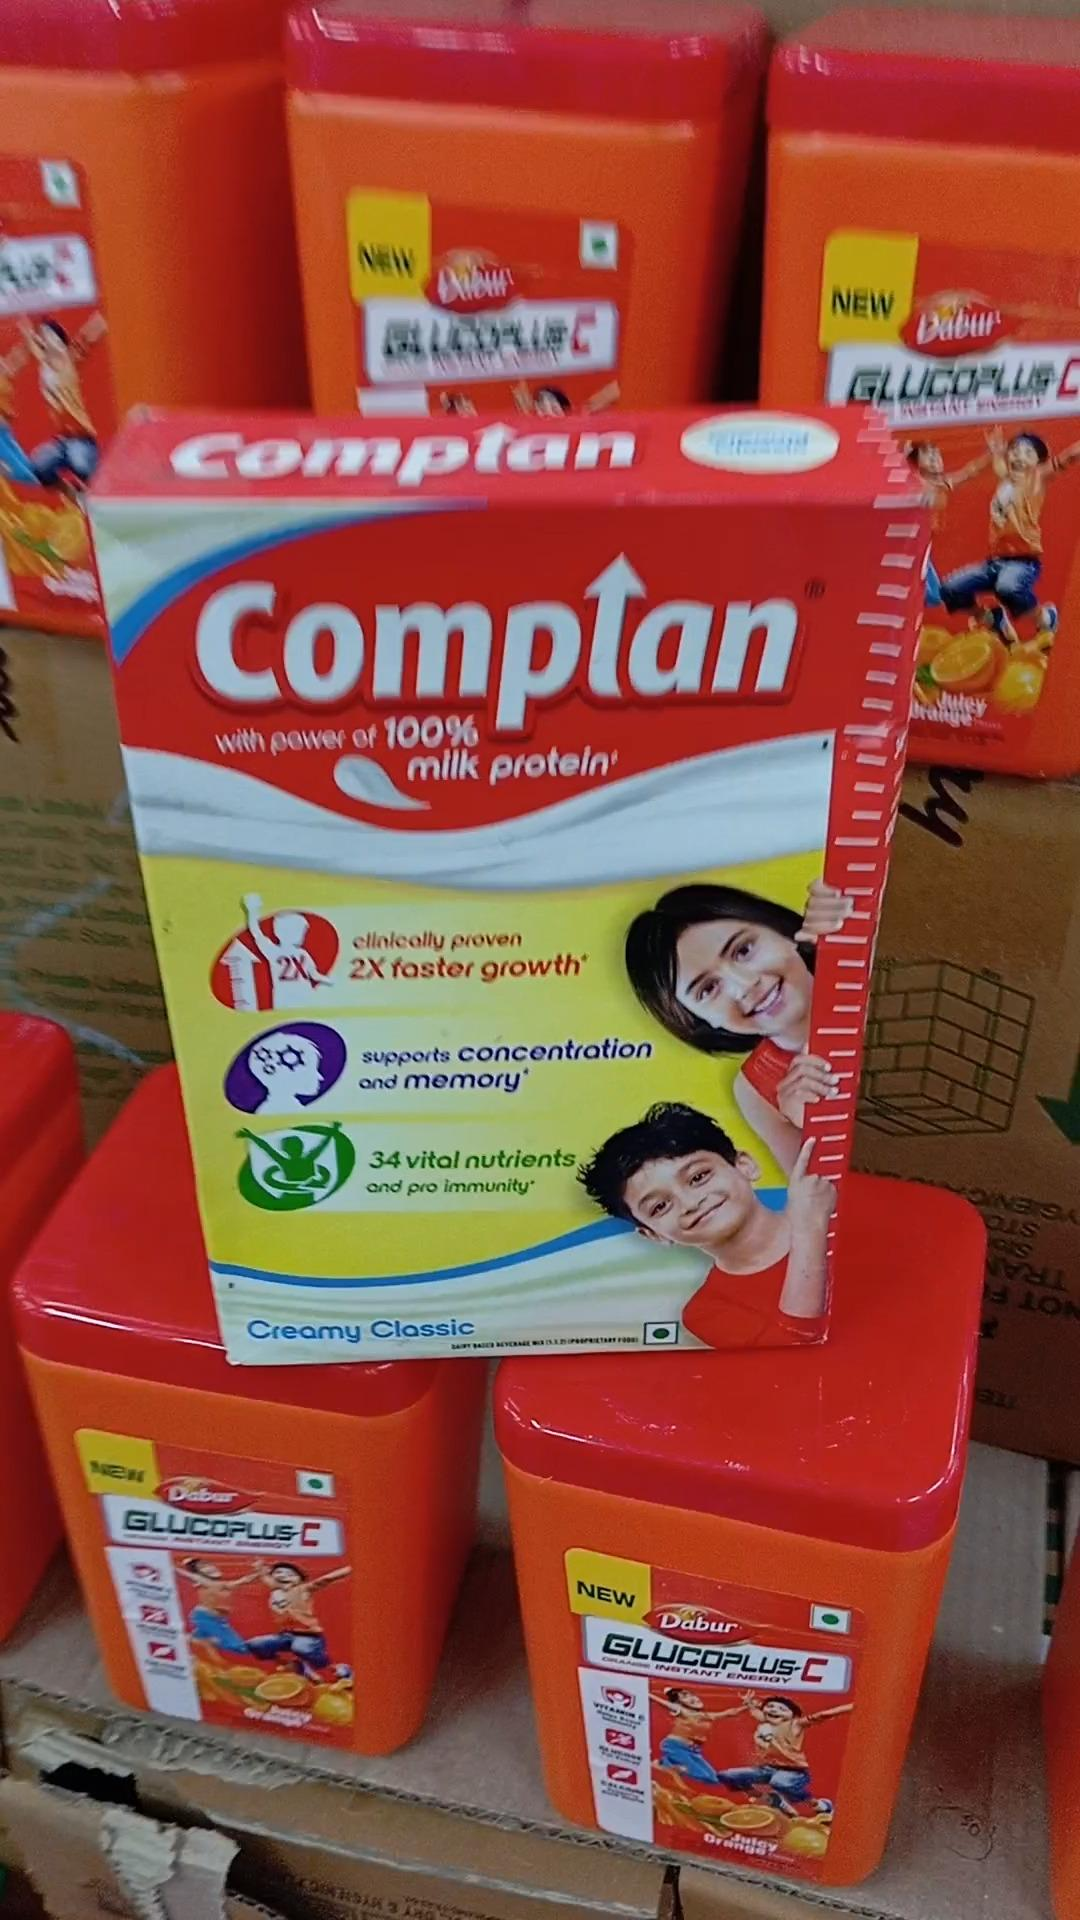COMPLAN_CREAMY_CLASSIC_500_G_PACK: (125, 450, 882, 1371)
